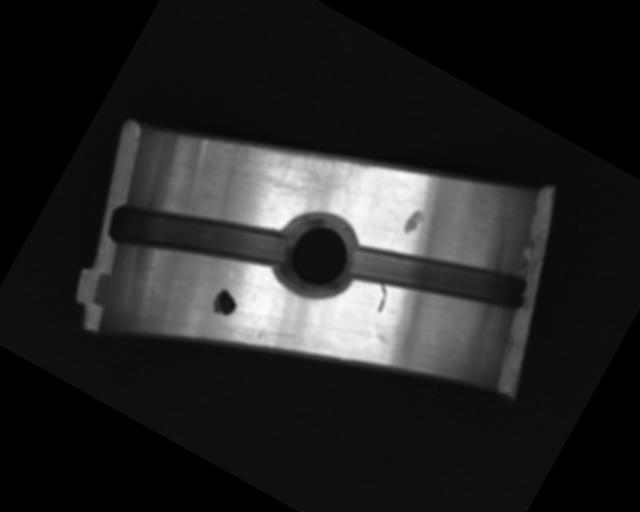blot: (206, 285, 242, 322)
bruise: (399, 205, 427, 239)
gap: (102, 159, 295, 317), (345, 200, 533, 353)
hole: (262, 197, 377, 311)
nick: (368, 282, 393, 313)
scratch: (218, 95, 379, 226)
